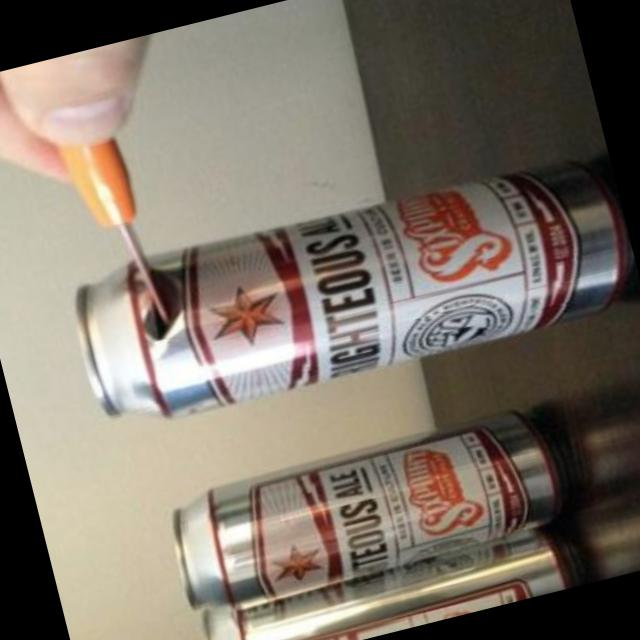metal: (75, 165, 626, 418), (173, 411, 565, 607), (204, 530, 575, 640)
